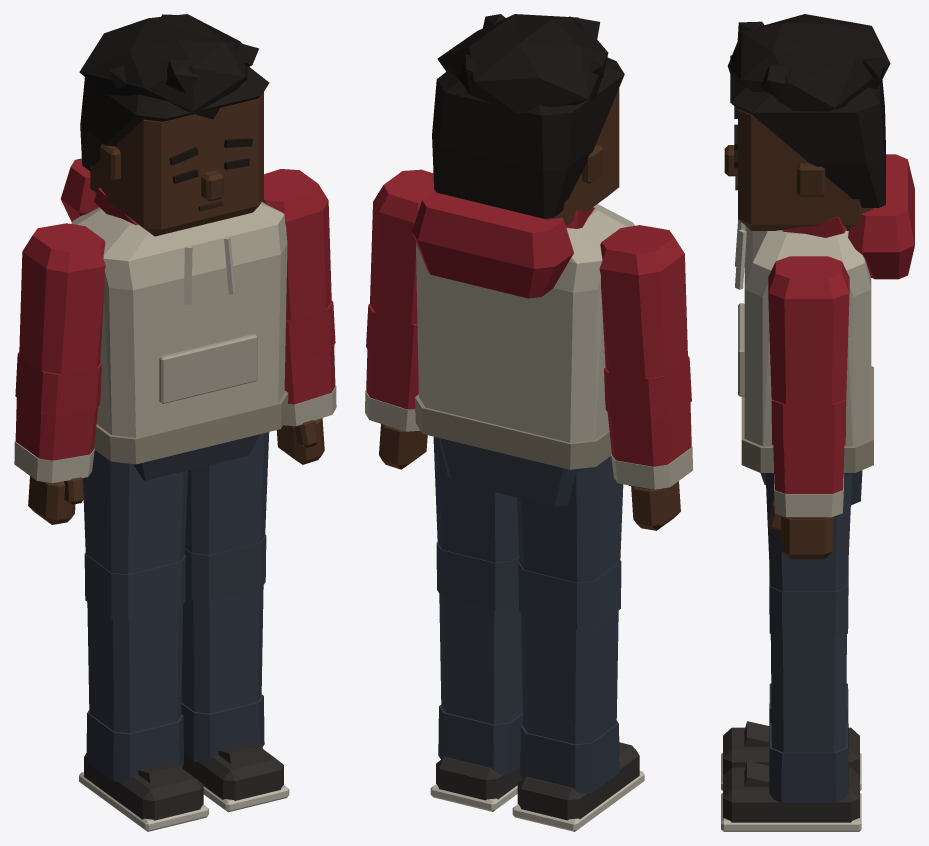
Rendered from tl_char_fan_hoodie_white_v01.glb.
3 views of the same model, side by side, from view 1: azimuth 30°, elevation 25°; view 2: azimuth 150°, elevation 25°; view 3: azimuth 270°, elevation 25° (orthographic).
Visible parts, largest first — view 1: spine, head, leg_lower_r, leg_lower_l, arm_upper_r, arm_lower_r, leg_upper_r, leg_upper_l, arm_lower_l, arm_upper_l, hips; view 2: spine, head, leg_lower_r, leg_lower_l, arm_upper_r, arm_lower_r, leg_upper_r, arm_lower_l, arm_upper_l, leg_upper_l, hips; view 3: head, leg_lower_l, spine, arm_upper_l, arm_lower_l, leg_upper_l, leg_lower_r, hips.
Part boxes in pixels (x1,y1,x2,y2): spine: (60,158,288,464); head: (79,14,269,236); leg_lower_r: (79,553,208,831); leg_lower_l: (181,535,289,812); arm_upper_r: (19,223,105,374); arm_lower_r: (14,352,101,524); leg_upper_r: (83,450,187,574); leg_upper_l: (185,432,269,554); arm_lower_l: (276,301,336,464); arm_upper_l: (262,169,331,320); hips: (133,434,259,480); spine: (412,191,634,469); head: (432,14,624,225); leg_lower_r: (512,560,644,831); leg_lower_l: (430,542,522,811); arm_upper_r: (599,225,687,378); arm_lower_r: (604,356,692,530); leg_upper_r: (517,456,623,582); arm_lower_l: (365,304,427,469); arm_upper_l: (370,169,434,324); leg_upper_l: (433,436,519,562); hips: (438,437,584,506); head: (724,14,890,230); leg_lower_l: (721,563,861,831); spine: (735,154,914,472); arm_upper_l: (768,256,849,404); arm_lower_l: (768,399,846,559); leg_upper_l: (765,473,852,591); leg_lower_r: (721,683,861,790); hips: (760,470,862,505).
Size of the model in its own units: 0.7457 by 1.8 by 0.4105.
